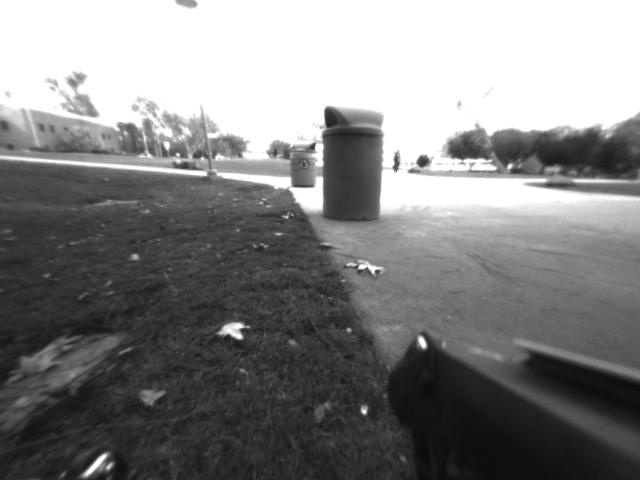trashcan: (313, 97, 393, 234)
